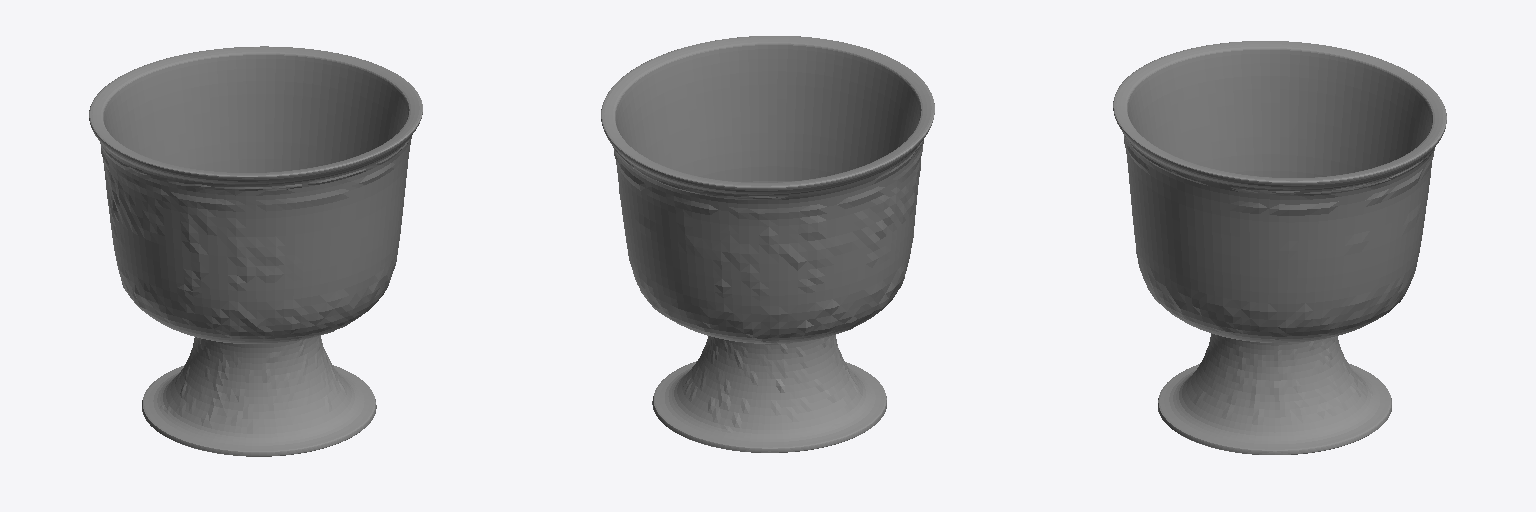
3 renders of one model, left to right at view 1: azimuth 30°, elevation 25°; view 2: azimuth 150°, elevation 25°; view 3: azimuth 270°, elevation 25°, orthographic.
Visible parts, largest first — view 1: objSZB_ZL_139; view 2: objSZB_ZL_139; view 3: objSZB_ZL_139.
Boxes of the visible parts, <box> form: objSZB_ZL_139: <box>89,46,422,456</box>; objSZB_ZL_139: <box>601,36,934,452</box>; objSZB_ZL_139: <box>1113,41,1446,454</box>.
Size of the model in its own units: 132 by 132 by 132.